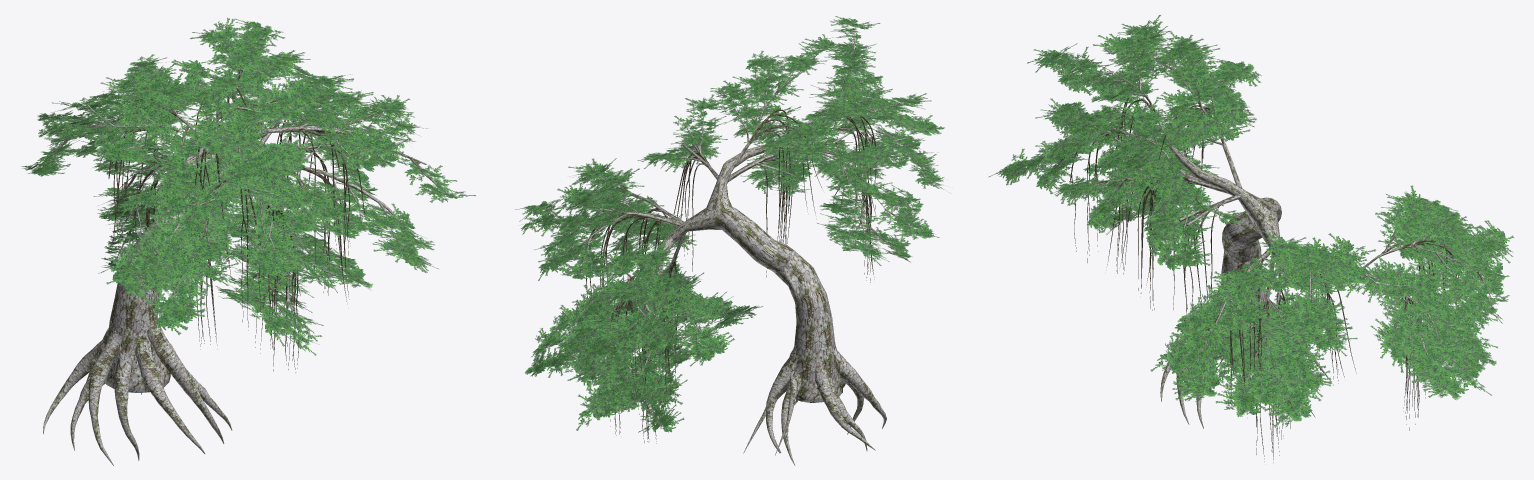
Rendered from Big_tree_01_C_001.glb.
3 views of the same model, side by side, from view 1: azimuth 30°, elevation 25°; view 2: azimuth 150°, elevation 25°; view 3: azimuth 270°, elevation 25° (orthographic). The views are drawn at different scales.
Parts seen in each view (by area): view 1: Big_tree_01_C.001; view 2: Big_tree_01_C.001; view 3: Big_tree_01_C.001.
Boxes of the visible parts, bbox=[...] form: Big_tree_01_C.001: bbox=[21, 17, 475, 465]; Big_tree_01_C.001: bbox=[515, 16, 949, 465]; Big_tree_01_C.001: bbox=[988, 15, 1513, 462].
Size of the model in its own units: 16.71 by 16.57 by 20.57.
Materials: 3 (3 with a texture image).
